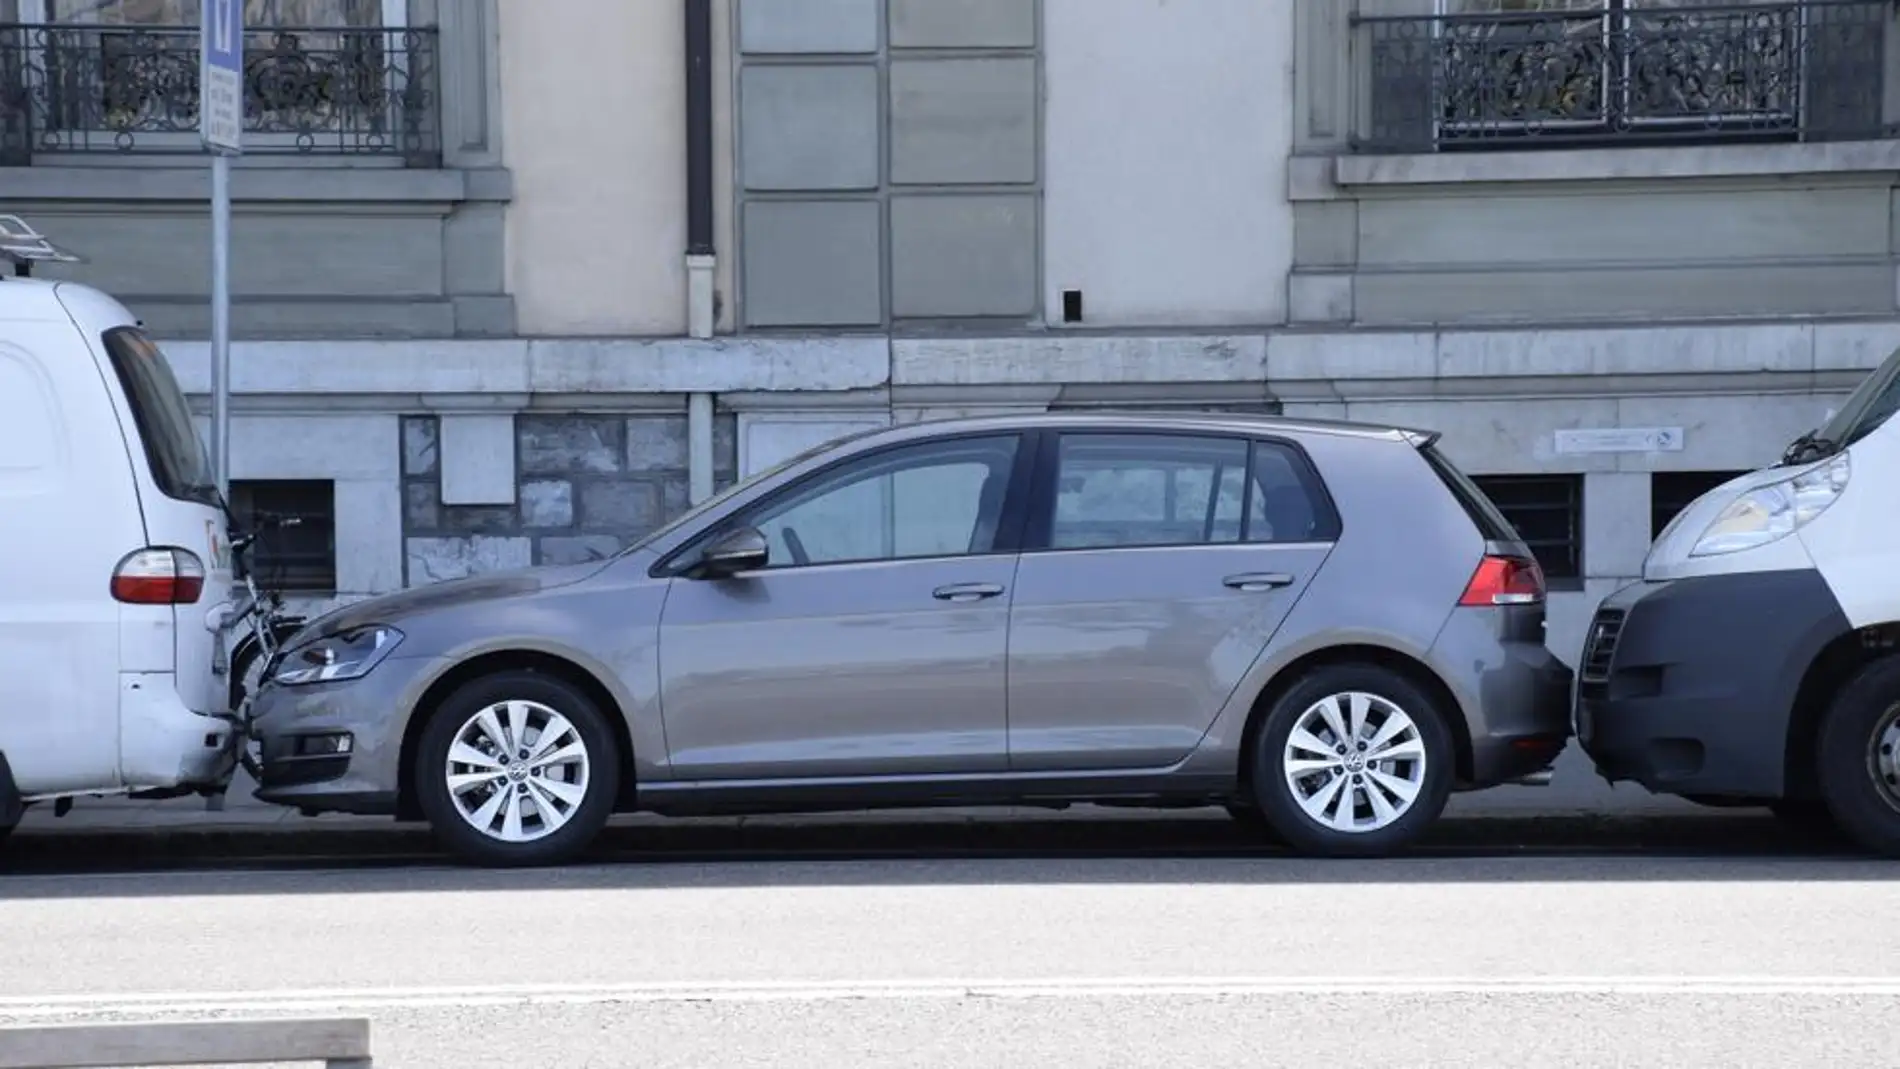car: (243, 402, 1583, 876), (1588, 265, 1896, 869), (7, 204, 247, 863)
